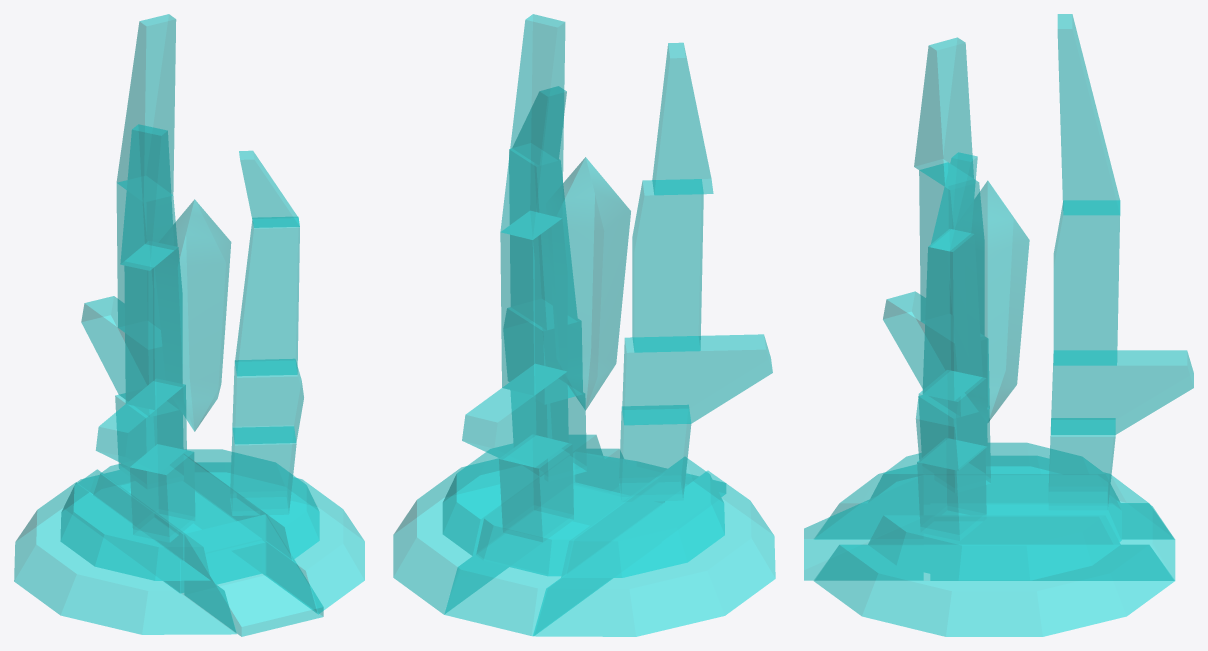
The model's file is SM_Prop_Shrine_01_Collision_01.fbx.
3 views of the same model, side by side, from view 1: azimuth 30°, elevation 25°; view 2: azimuth 150°, elevation 25°; view 3: azimuth 270°, elevation 25° (orthographic). The views are drawn at different scales.
Parts seen in each view (by area): view 1: SM_Prop_Shrine_01_Collision_01; view 2: SM_Prop_Shrine_01_Collision_01; view 3: SM_Prop_Shrine_01_Collision_01.
Part boxes in pixels (bbox=[...]): SM_Prop_Shrine_01_Collision_01: bbox=[14, 14, 364, 636]; SM_Prop_Shrine_01_Collision_01: bbox=[393, 14, 775, 636]; SM_Prop_Shrine_01_Collision_01: bbox=[804, 14, 1193, 636].
Bounding box in the file's own units: 580 × 940 × 616.
